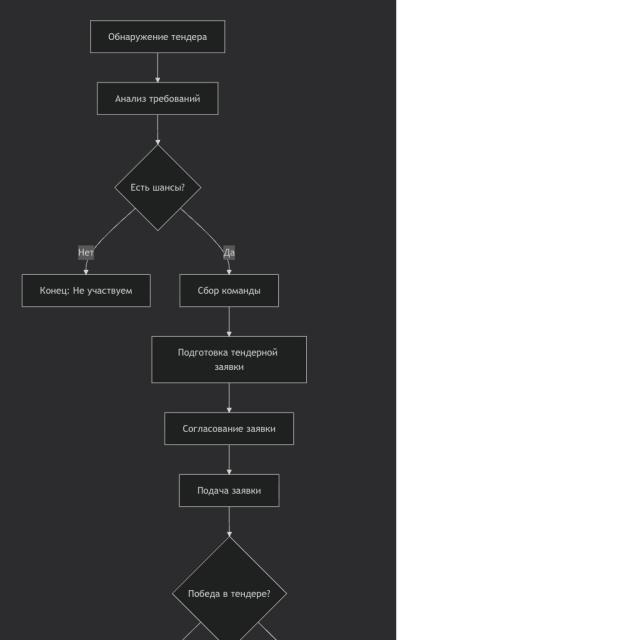arrow: (83, 208, 135, 274), (180, 208, 232, 274), (226, 308, 232, 337), (226, 383, 232, 412), (226, 446, 232, 474), (226, 508, 232, 536), (155, 54, 160, 82), (155, 116, 160, 144)
diamond: (115, 145, 200, 229)
rectangle: (152, 336, 306, 383), (90, 20, 225, 53), (165, 412, 293, 445), (22, 274, 150, 307), (97, 82, 218, 115), (179, 474, 279, 507), (179, 274, 278, 307)
text_region: (78, 245, 95, 260), (223, 244, 235, 260)
